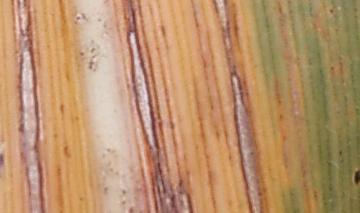tarspot: (352, 168, 360, 184)
